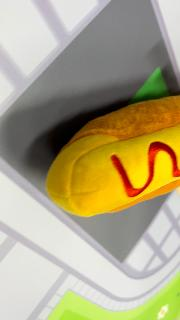hotdog: (45, 94, 179, 218)
